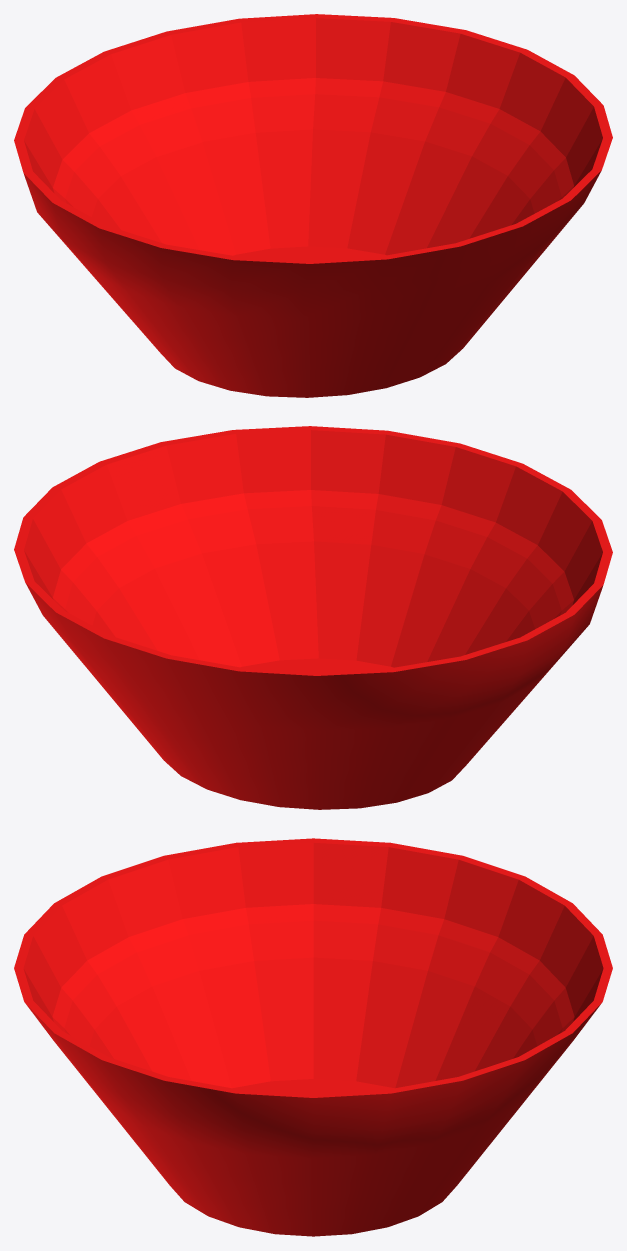
File: Bowl.fbx
3 views of the same model, one above another, from view 1: azimuth 30°, elevation 25°; view 2: azimuth 150°, elevation 25°; view 3: azimuth 270°, elevation 25° (orthographic).
Visible parts, largest first — view 1: Bowl; view 2: Bowl; view 3: Bowl.
Boxes of the visible parts, left/top/right/bottom form: Bowl: left=14, top=14, right=612, bottom=397; Bowl: left=14, top=426, right=612, bottom=809; Bowl: left=14, top=838, right=612, bottom=1236.
Bounding box in the file's own units: 18.55 × 6.64 × 18.08.
